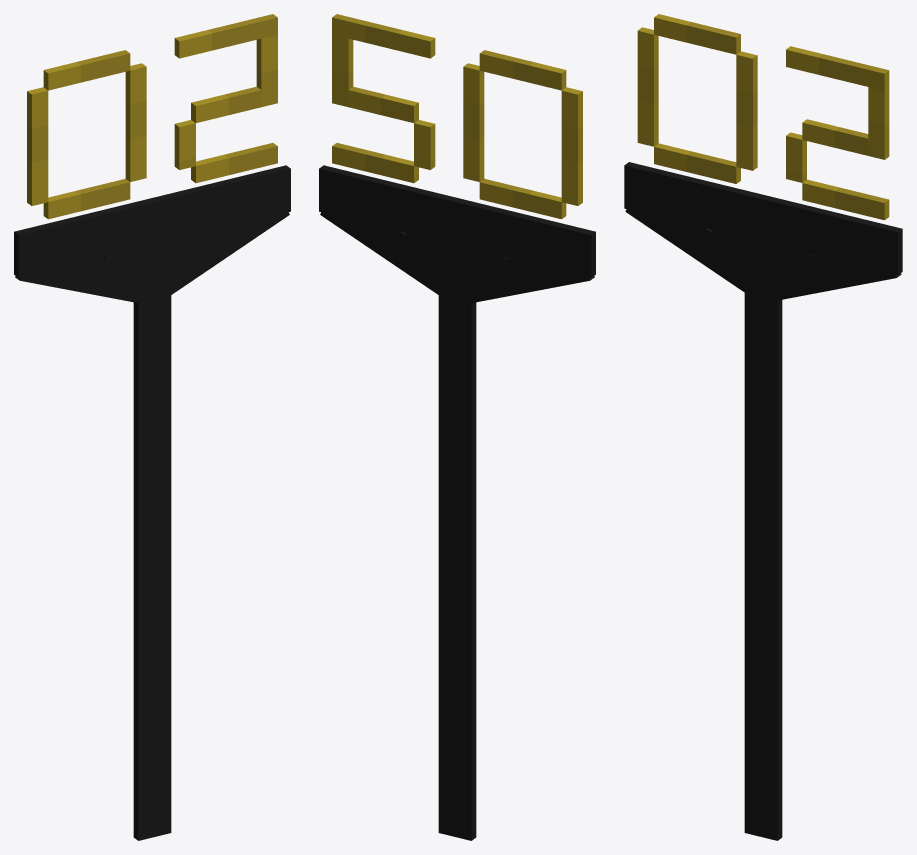
The model's file is victorian_speed_50.obj.
The picture shows the model from 3 angles, left to right: view 1: azimuth 30°, elevation 25°; view 2: azimuth 150°, elevation 25°; view 3: azimuth 330°, elevation 25°; orthographic projection.
Parts seen in each view (by area): view 1: cube; view 2: cube; view 3: cube.
Part boxes in pixels (bbox=[...]): cube: bbox=[14, 14, 290, 840]; cube: bbox=[319, 14, 595, 840]; cube: bbox=[624, 14, 902, 840].
Bounding box in the file's own units: 0.5188 × 1.44 × 0.0156.
Materials: 2 (2 with a texture image).
